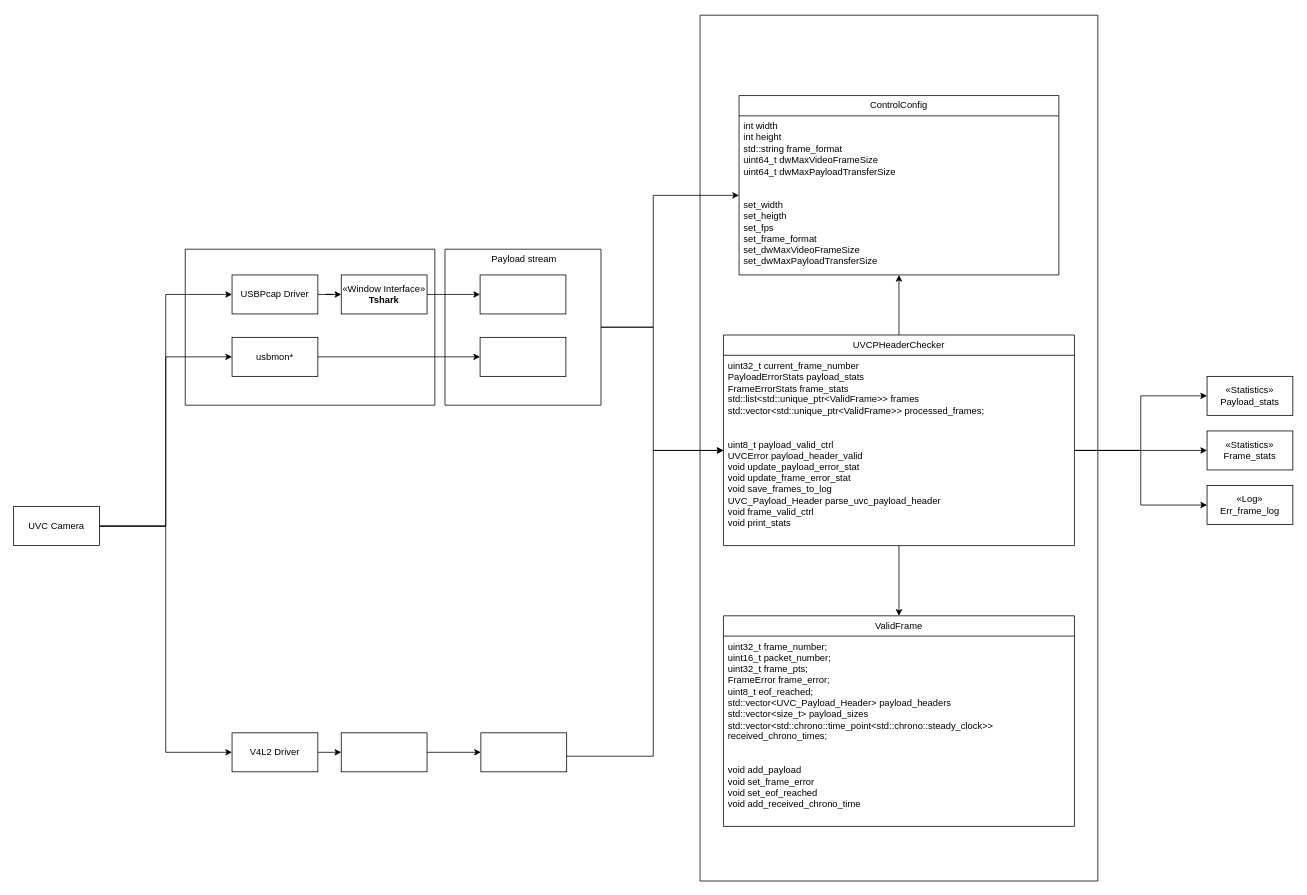
Image size: 1307x895. Some labels were removed from this diagram. Each missing label, with the centre of its shape:
"Handling URB Block" belongs at pixel 309 326.
"libuvc" belongs at pixel 383 752.
"Validator" belongs at pixel 898 447.
"«Linux Interface» moncapler" belongs at pixel 522 356.
"«Linux Interface» uvcperf" belongs at pixel 523 752.
"«Window Interface» moncapwer" belongs at pixel 522 294.
